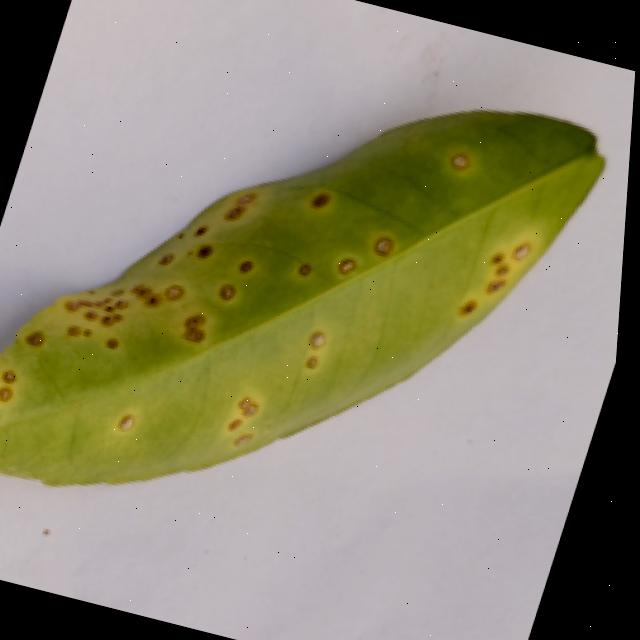canker: (0, 111, 603, 485), (0, 112, 286, 467), (442, 216, 555, 337), (333, 218, 407, 294), (207, 384, 272, 454), (287, 319, 339, 384), (440, 133, 487, 179), (291, 242, 326, 288), (304, 184, 338, 217)
